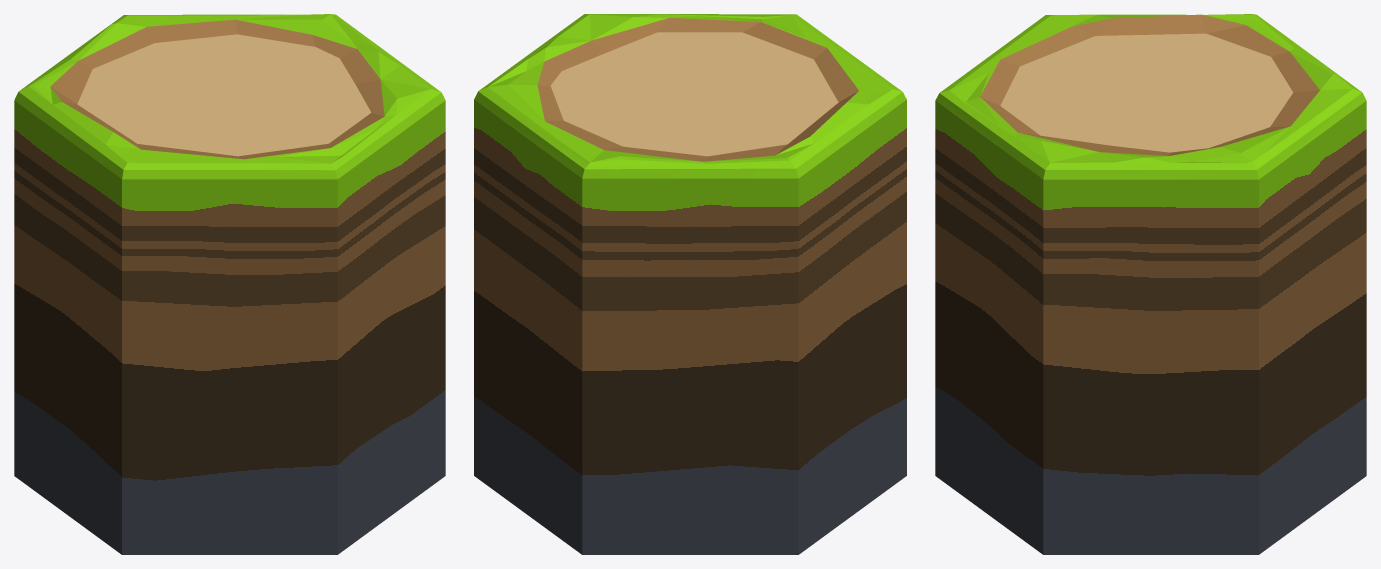
File: HexTilePath_Center_v1.glb
3 renders of one model, left to right at view 1: azimuth 30°, elevation 25°; view 2: azimuth 150°, elevation 25°; view 3: azimuth 270°, elevation 25°, orthographic.
Parts seen in each view (by area): view 1: SM_Tile_Hex_Colunm.001; view 2: SM_Tile_Hex_Colunm.001; view 3: SM_Tile_Hex_Colunm.001.
Boxes of the visible parts, bbox=[...] form: SM_Tile_Hex_Colunm.001: bbox=[14, 14, 445, 554]; SM_Tile_Hex_Colunm.001: bbox=[474, 14, 906, 554]; SM_Tile_Hex_Colunm.001: bbox=[935, 14, 1366, 554].
Size of the model in its own units: 1.73 by 2 by 2.
Materials: 1 (1 with a texture image).
